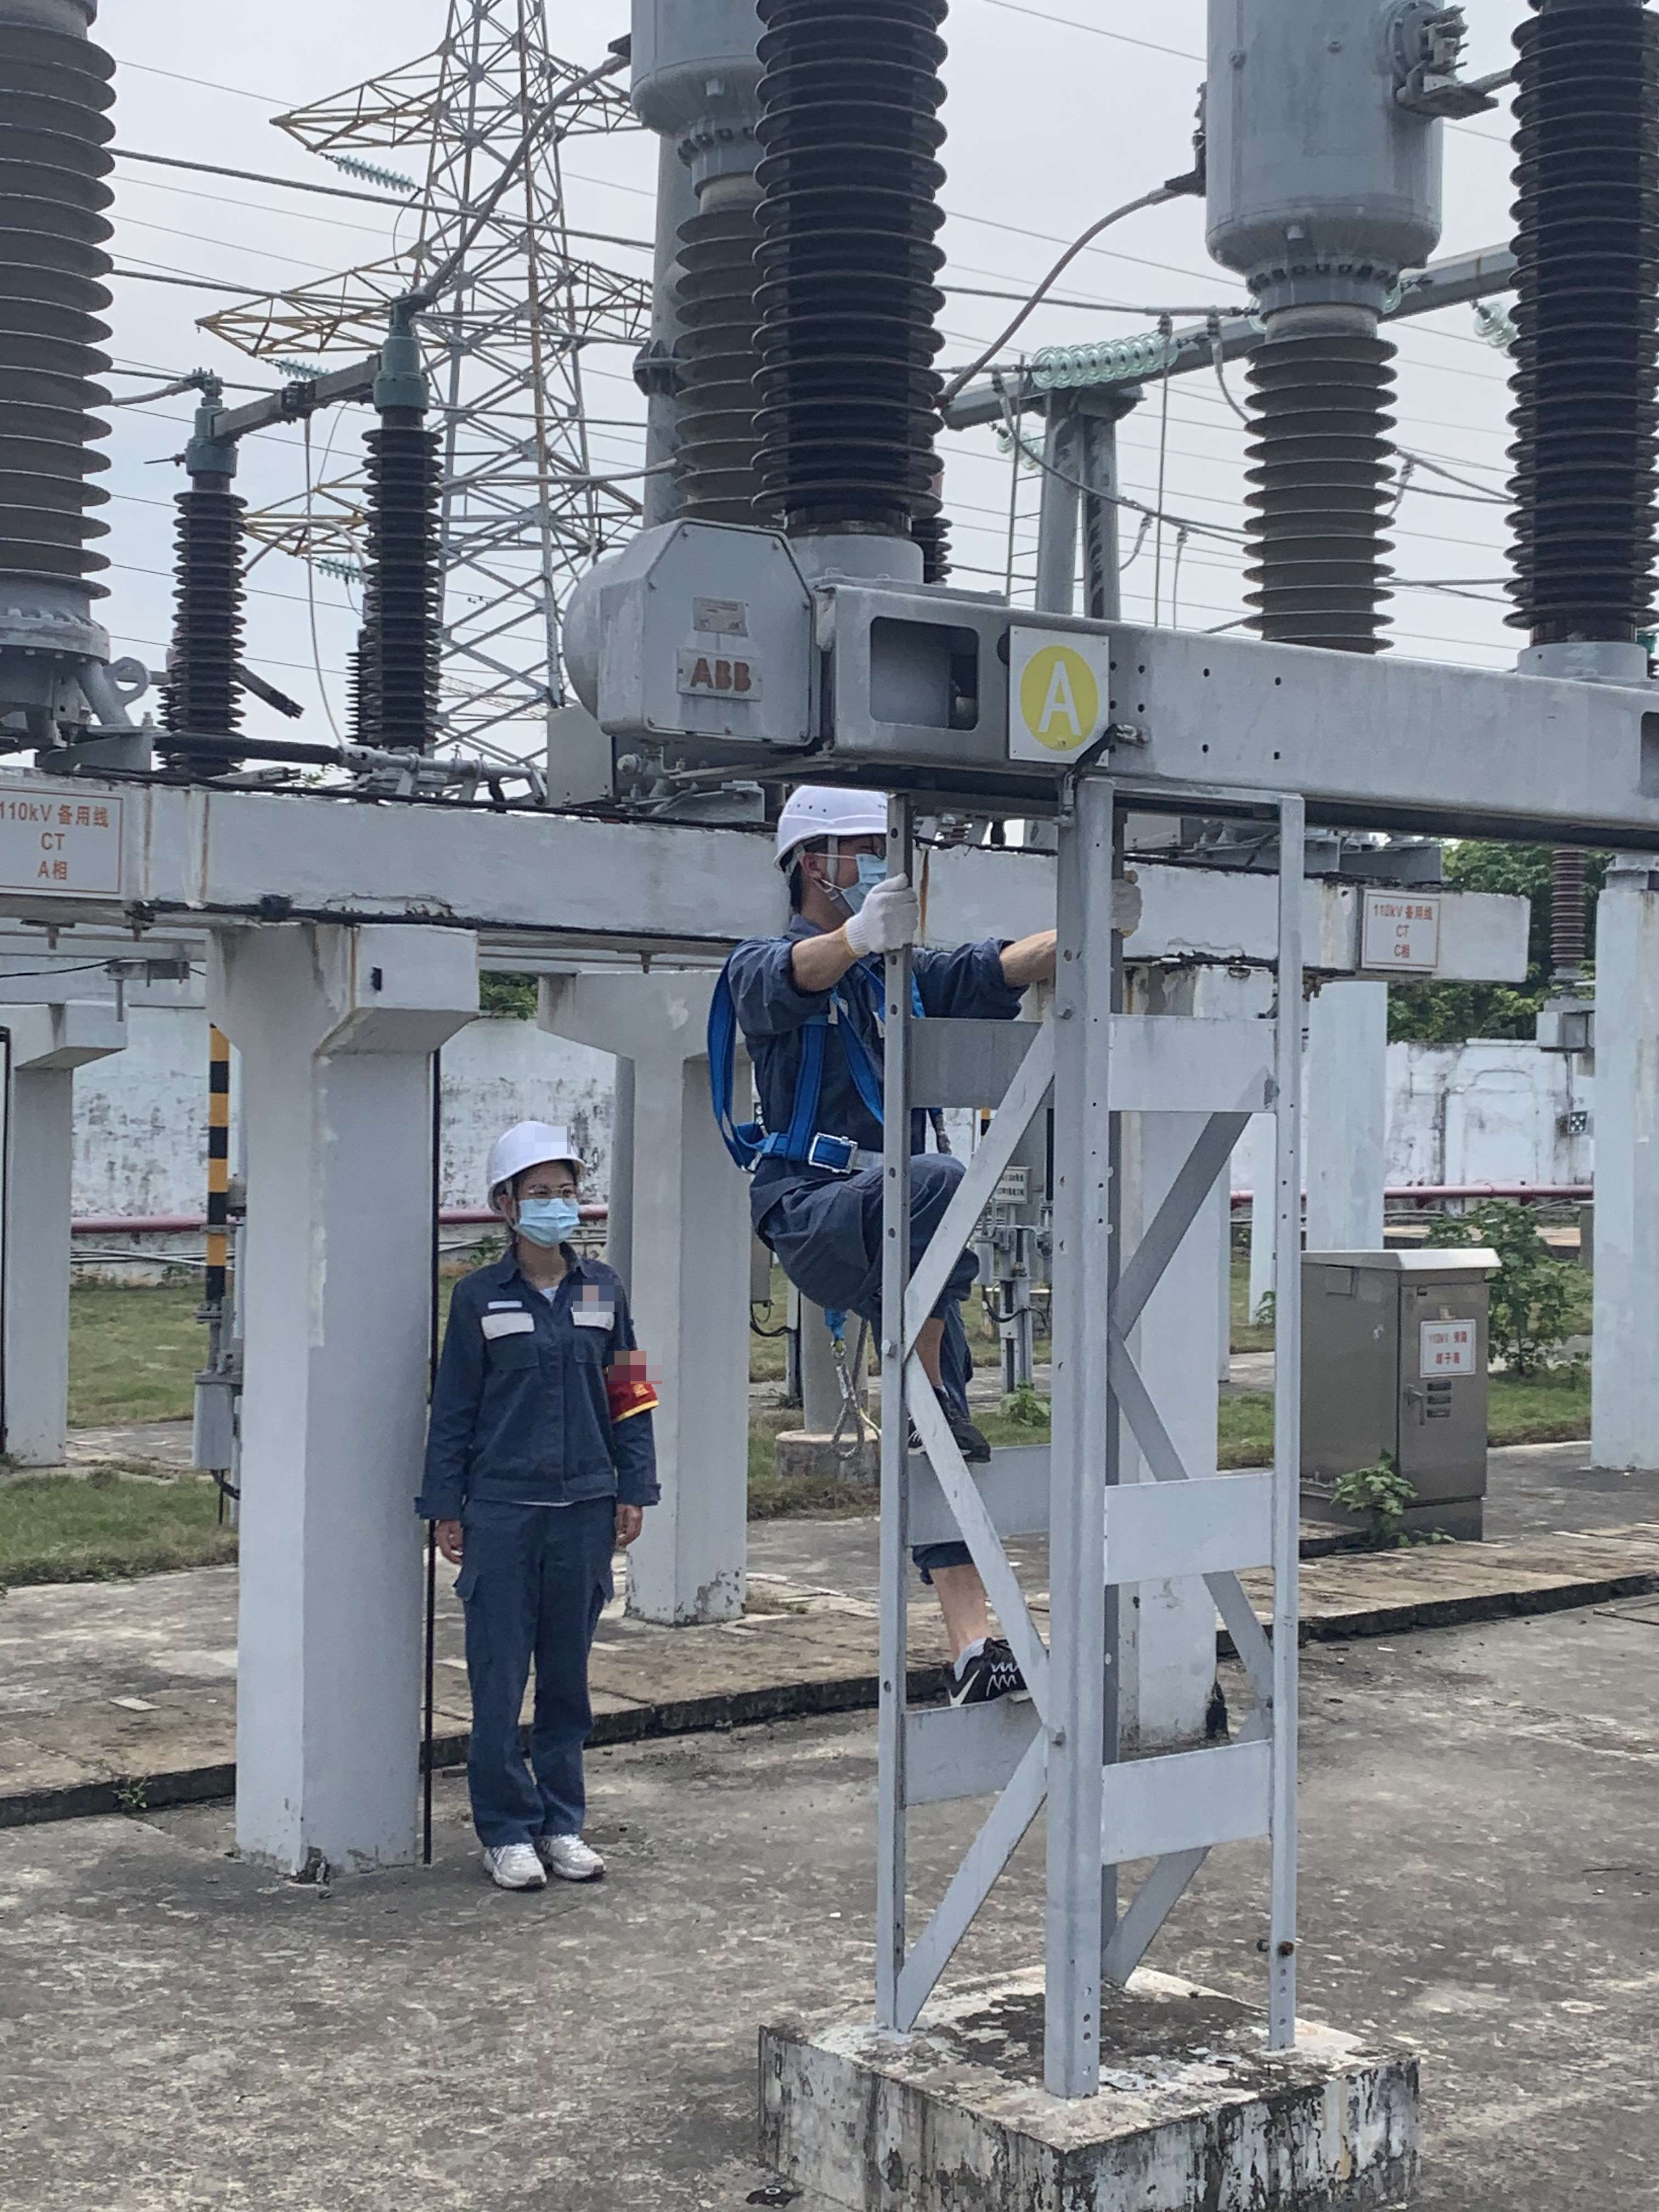downsuit: (450, 1536, 626, 1834), (746, 1150, 985, 1350)
upsuit: (410, 1259, 666, 1521), (702, 932, 1021, 1134)
wrongbottom: (929, 1541, 992, 1655)
wrongtop: (762, 918, 859, 1008), (948, 939, 1060, 996)
